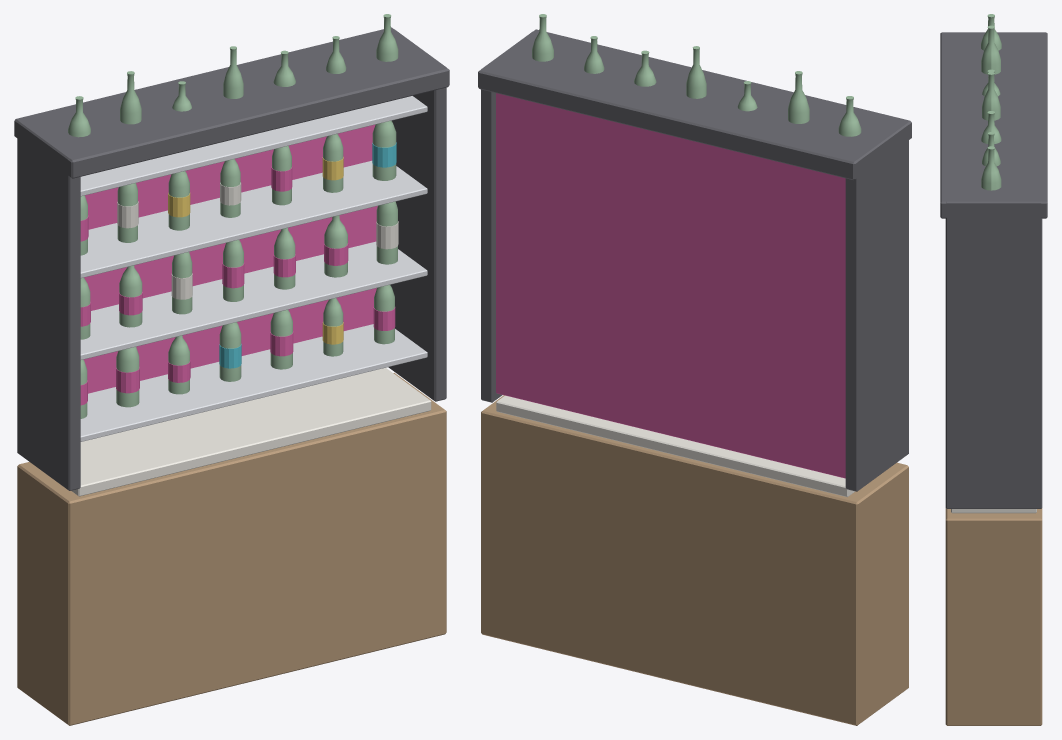
File: nightclub-and-dj-booth-back-bar-shelving-unit-e10c5d99__34117.glb
The picture shows the model from 3 angles, left to right: view 1: azimuth 30°, elevation 25°; view 2: azimuth 150°, elevation 25°; view 3: azimuth 270°, elevation 25°; orthographic projection. The views are drawn at different scales.
Parts seen in each view (by area): view 1: back-bar-shelving-unit; view 2: back-bar-shelving-unit; view 3: back-bar-shelving-unit.
Boxes of the visible parts, bbox=[...] form: back-bar-shelving-unit: bbox=[14, 14, 449, 725]; back-bar-shelving-unit: bbox=[478, 14, 911, 725]; back-bar-shelving-unit: bbox=[940, 14, 1047, 725].
Size of the model in its own units: 1.5 by 2.33 by 0.4.
